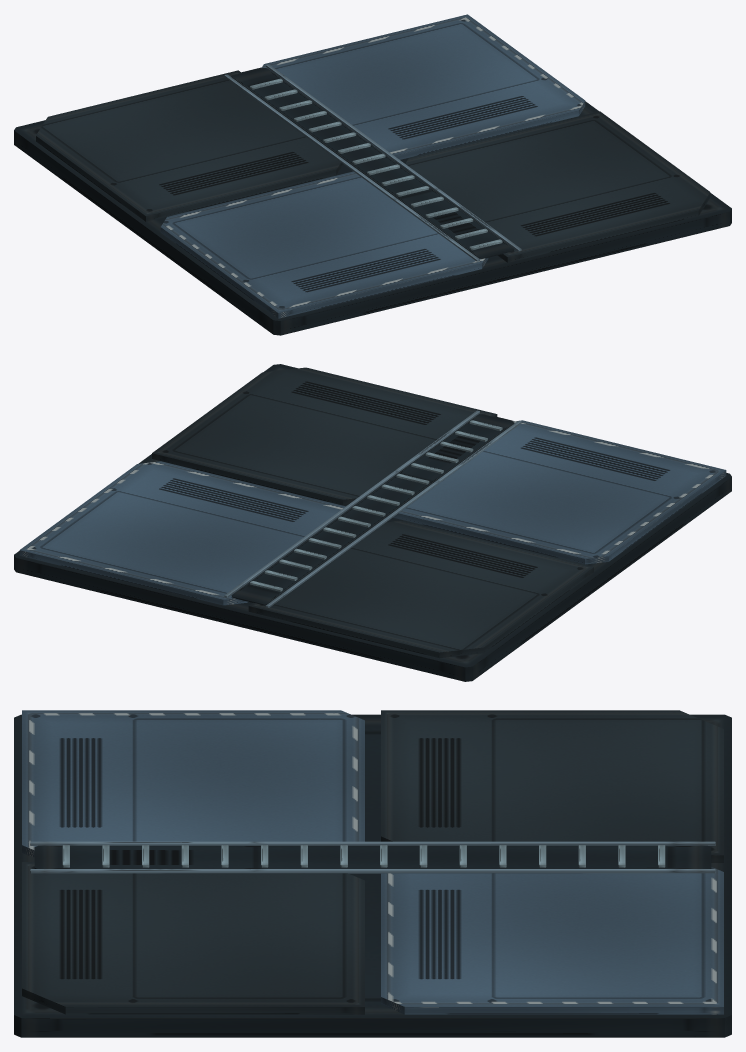
The model's file is V47_Deck0.fbx.
3 renders of one model, top to bottom at view 1: azimuth 30°, elevation 25°; view 2: azimuth 150°, elevation 25°; view 3: azimuth 270°, elevation 25°, orthographic. The views are drawn at different scales.
Visible parts, largest first — view 1: V47_Deck0; view 2: V47_Deck0; view 3: V47_Deck0.
Boxes of the visible parts, x1,y1,x2,y2 form: V47_Deck0: [14, 14, 731, 335]; V47_Deck0: [14, 364, 731, 681]; V47_Deck0: [14, 710, 731, 1037].
Size of the model in its own units: 3.98 by 0.188 by 3.98.
